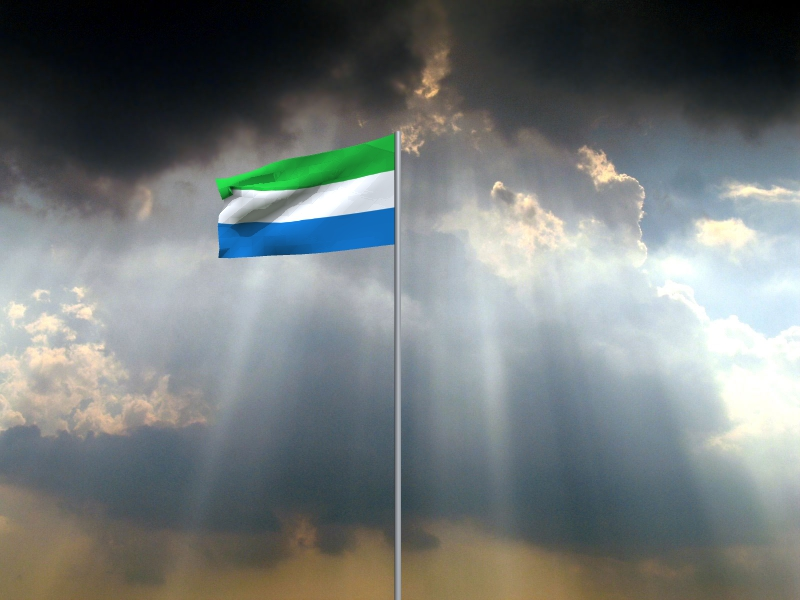sl: (215, 134, 395, 260)
